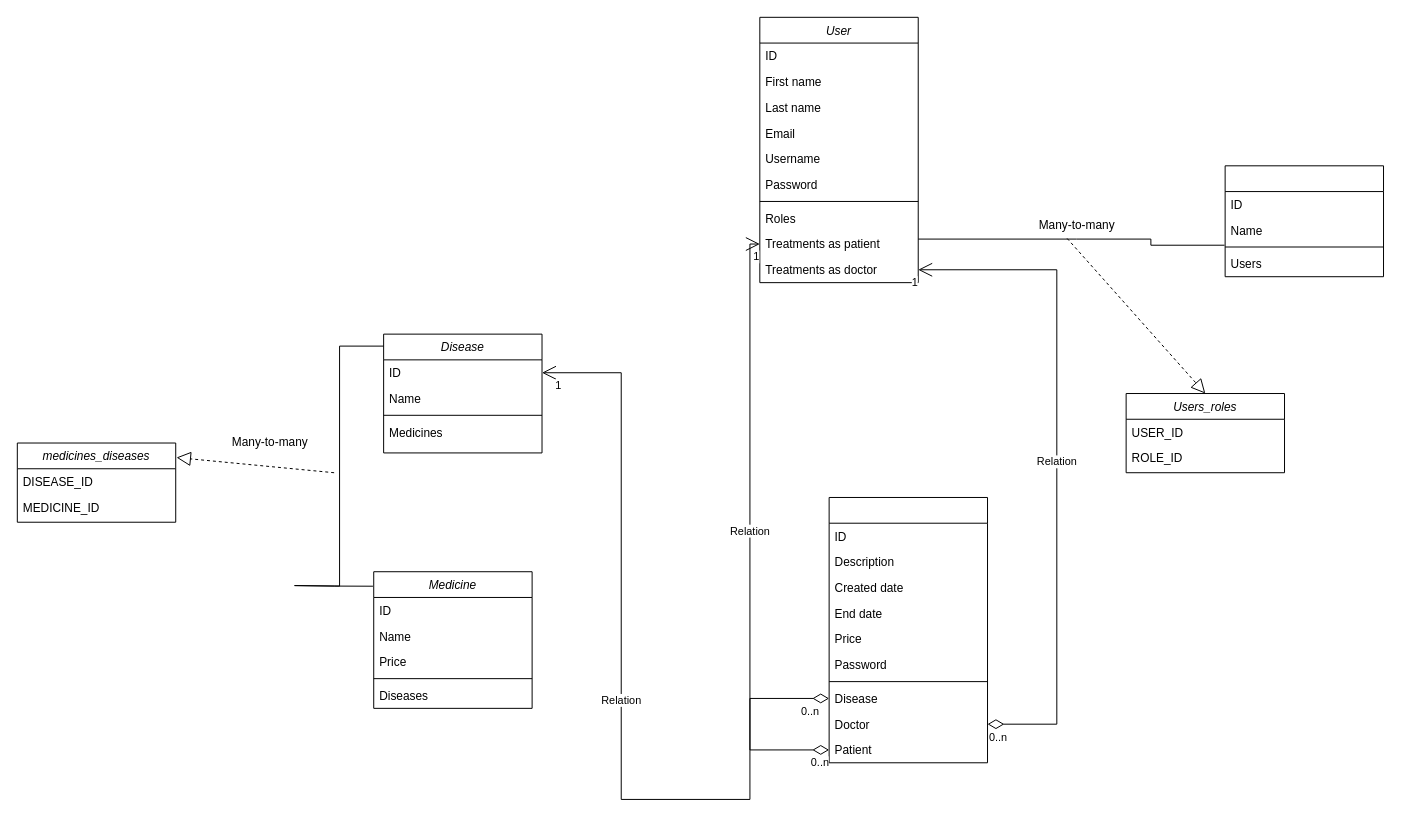
Image size: 1401x834. Some labels were removed from this diagram. The shapes that lost their labels are listed below. From the top down, each one's box as (x1, y1, x2, y2) in pixels, then its label:
(1224, 165, 1384, 277): Role
(828, 496, 988, 763): Treatment
